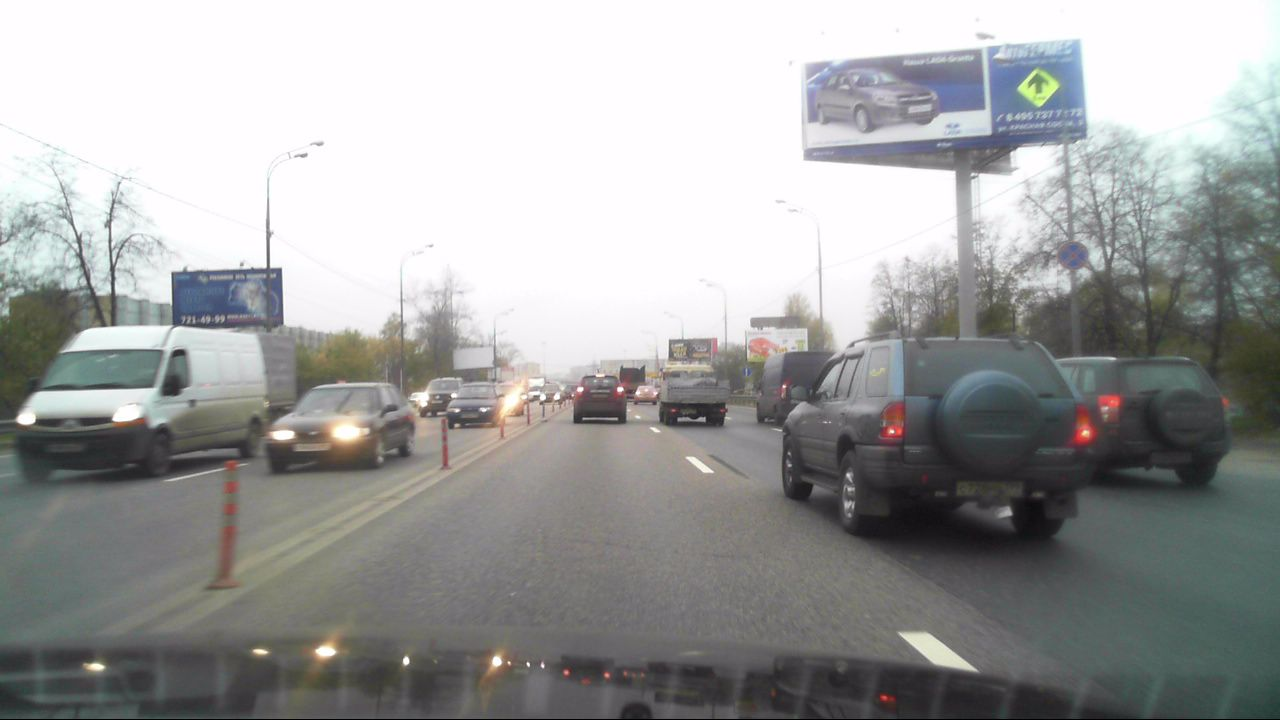No Parking: (1057, 240, 1089, 271)
